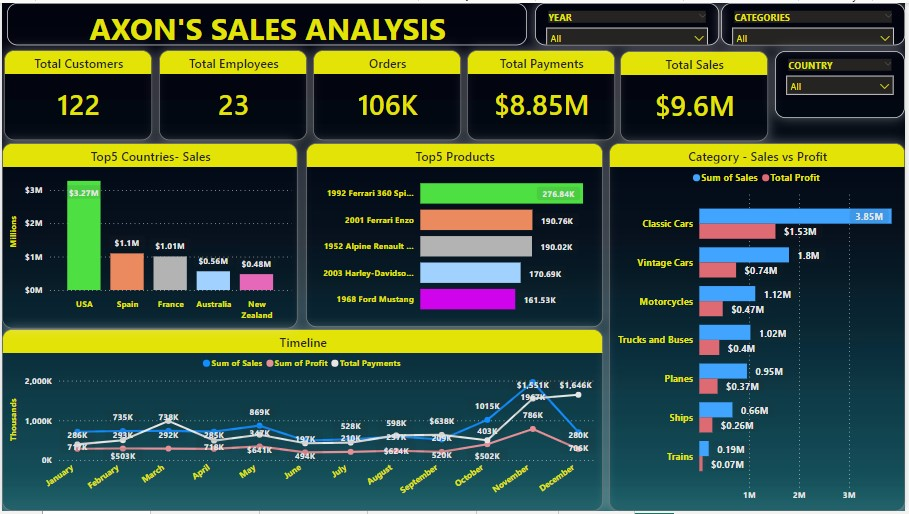

The dashboard page shown, as its layout file describes it:
{"tool":"powerbi","page":{"name":"Dashboard 1","canvas":[1280,720],"ordinal":0},"visuals":[{"type":"card","title":"Total Customers","fields":{"Values":["CountNonNull(Customers.customerNumber)"]},"box":[2.8,66.6,209.8,127.6],"z":0},{"type":"card","title":"Total Employees","fields":{"Values":["CountNonNull(Employees.employeeNumber)"]},"box":[222.5,66.6,209.8,127.6],"z":1000},{"type":"card","title":"Orders","fields":{"Values":["Measurables.Total Orders"]},"box":[440.8,66.6,209.8,127.6],"z":2000},{"type":"card","title":"Total Payments","fields":{"Values":["Measurables.Total Payments"]},"box":[659.1,66.6,209.8,127.6],"z":3000},{"type":"card","title":"Total Sales","fields":{"Values":["Measurables.Total Sales"]},"box":[875.9,68,209.8,127.6],"z":4000},{"type":"barChart","title":"Top5 Products","fields":{"Category":["Products.productName"],"Y":["Sum(Orderdetails.Sales)"]},"box":[430.9,198.4,420.9,260.8],"z":5000},{"type":"lineChart","title":"Timeline","fields":{"Category":["Dim_Date.Date Hierarchy.Year","Dim_Date.Date Hierarchy.Quarter","Dim_Date.Date Hierarchy.Month Name"],"Y":["Sum(Orderdetails.Sales)","Sum(Orderdetails.Profit)","Measurables.Total Payments"]},"box":[0,462,851.8,258],"z":6000},{"type":"clusteredBarChart","title":"Category - Sales vs Profit","fields":{"Category":["Products.productLine"],"Y":["Sum(Orderdetails.Sales)","Measurables.Total Profit"]},"box":[860.3,198.4,419.5,521.6],"z":7000},{"type":"slicer","fields":{"Values":["Products.productLine"]},"box":[1018.6,0,261.4,60],"z":8000},{"type":"textbox","title":"AXON''S SALES ANALYSIS","box":[7.1,0,737.1,60],"z":9000},{"type":"slicer","fields":{"Values":["Dim_Date.Year"]},"box":[755.7,0,261.4,60],"z":10000},{"type":"slicer","title":"Country","fields":{"Values":["Customers.country"]},"box":[1095.6,68,184.3,95],"z":11000},{"type":"columnChart","title":"Top5 Countries- Sales","fields":{"Category":["Customers.country"],"Y":["Measurables.Total Sales"]},"box":[0,198,419.4,263.4],"z":12000}]}

Visuals, with their boxes in screenshot pixels (x1, y1, x2, y2), scaled from the page's 1280x720 canvas onto the 909x514 screenshot:
"Total Customers" card: {"x1": 2, "y1": 48, "x2": 151, "y2": 139}
"Total Employees" card: {"x1": 158, "y1": 48, "x2": 307, "y2": 139}
"Orders" card: {"x1": 313, "y1": 48, "x2": 462, "y2": 139}
"Total Payments" card: {"x1": 468, "y1": 48, "x2": 617, "y2": 139}
"Total Sales" card: {"x1": 622, "y1": 49, "x2": 771, "y2": 140}
"Top5 Products" barChart: {"x1": 306, "y1": 142, "x2": 605, "y2": 328}
"Timeline" lineChart: {"x1": 0, "y1": 330, "x2": 605, "y2": 513}
"Category - Sales vs Profit" clusteredBarChart: {"x1": 611, "y1": 142, "x2": 908, "y2": 513}
slicer - Products.productLine: {"x1": 723, "y1": 0, "x2": 908, "y2": 43}
"AXON''S SALES ANALYSIS" textbox: {"x1": 5, "y1": 0, "x2": 528, "y2": 43}
slicer - Dim_Date.Year: {"x1": 537, "y1": 0, "x2": 722, "y2": 43}
"Country" slicer: {"x1": 778, "y1": 49, "x2": 908, "y2": 116}
"Top5 Countries- Sales" columnChart: {"x1": 0, "y1": 141, "x2": 298, "y2": 329}
